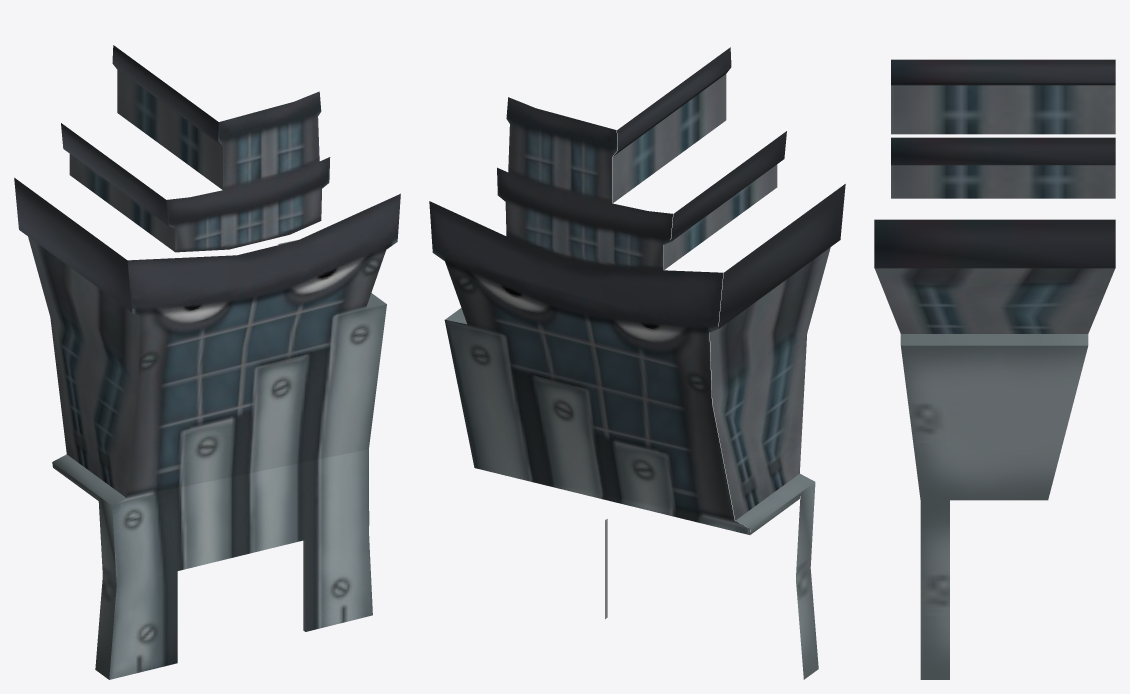
The model's file is sales.glb.
3 views of the same model, side by side, from view 1: azimuth 30°, elevation 25°; view 2: azimuth 150°, elevation 25°; view 3: azimuth 270°, elevation 25° (orthographic). The views are drawn at different scales.
Visible parts, largest first — view 1: suit_landmark_new_sales_building, suit_landmark_sales_front, suitlandmark_top; view 2: suit_landmark_new_sales_building; view 3: suit_landmark_new_sales_building.
Part boxes in pixels (left/top/right/bottom): suit_landmark_new_sales_building: left=14, top=45, right=400, bottom=679; suit_landmark_sales_front: left=109, top=449, right=372, bottom=679; suitlandmark_top: left=166, top=91, right=330, bottom=252; suit_landmark_new_sales_building: left=429, top=47, right=845, bottom=679; suit_landmark_new_sales_building: left=874, top=59, right=1115, bottom=679.
Size of the model in its own units: 34.22 by 65.81 by 24.55.
5 materials, 4 textured.
